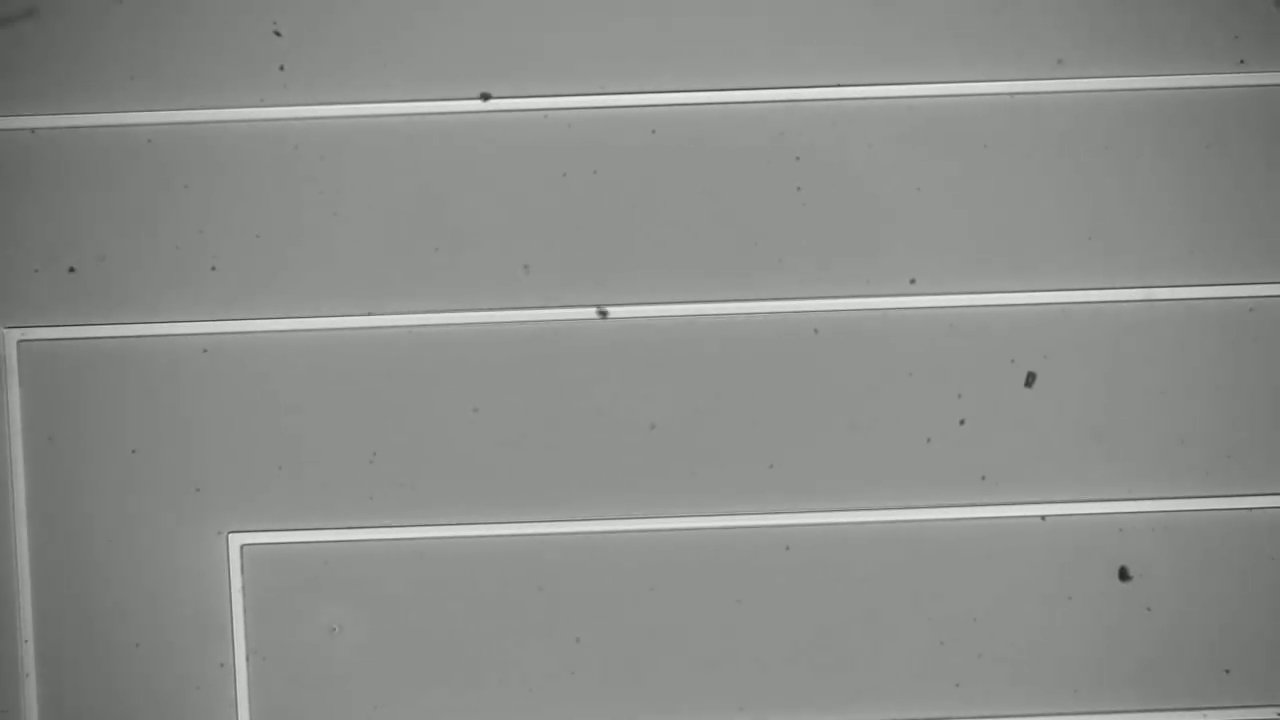stains_enbedded: (584, 287, 618, 330), (470, 86, 511, 119)
